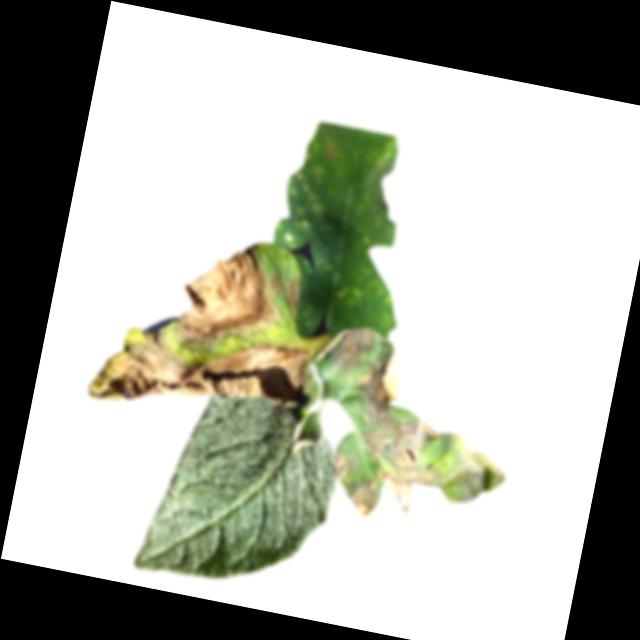Late_blight: (85, 308, 313, 440), (323, 407, 514, 544), (171, 235, 288, 358), (349, 338, 413, 432), (318, 319, 380, 382), (368, 133, 401, 180), (315, 129, 344, 164), (281, 276, 305, 313), (331, 282, 363, 308)
healthy: (131, 381, 348, 604)
